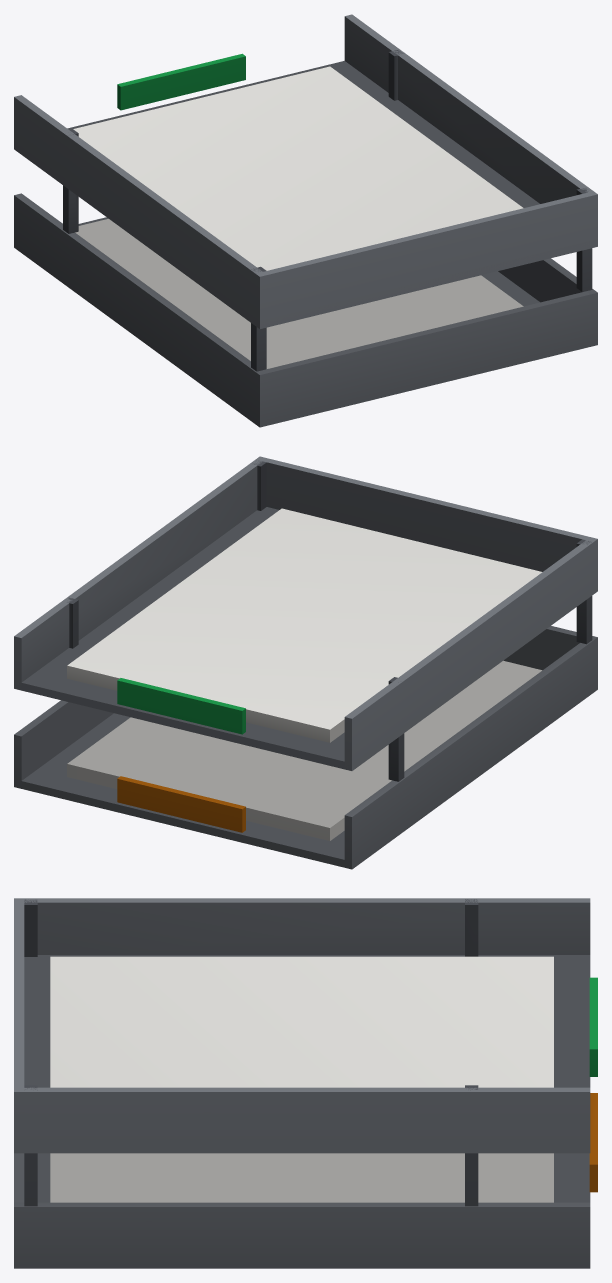
Rendered from tray_inout_01.glb.
3 views of the same model, one above another, from view 1: azimuth 30°, elevation 25°; view 2: azimuth 150°, elevation 25°; view 3: azimuth 270°, elevation 25° (orthographic). The views are drawn at different scales.
Visible parts, largest first — view 1: tray_inout_01_mesh; view 2: tray_inout_01_mesh; view 3: tray_inout_01_mesh.
Boxes of the visible parts, <box> form: tray_inout_01_mesh: <box>14,14,597,427</box>; tray_inout_01_mesh: <box>14,456,597,869</box>; tray_inout_01_mesh: <box>14,898,597,1268</box>.
Bounding box in the file's own units: 0.27 × 0.115 × 0.3445.
1 material, 1 textured.
